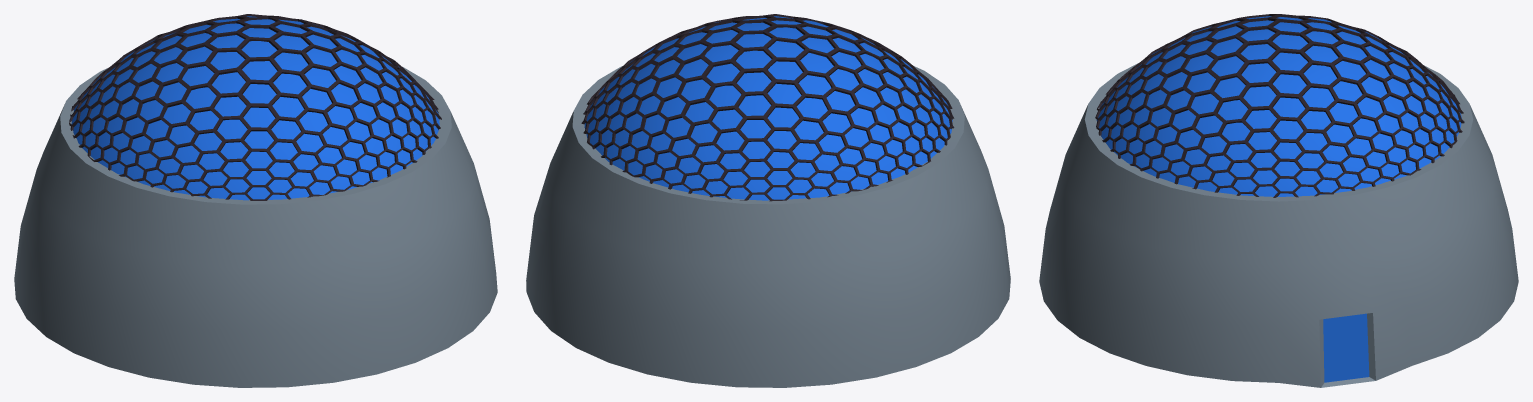
Rendered from SphericalHouse1.fbx.
3 renders of one model, left to right at view 1: azimuth 30°, elevation 25°; view 2: azimuth 150°, elevation 25°; view 3: azimuth 270°, elevation 25°, orthographic.
Visible parts, largest first — view 1: Cylinder.005, Sphere.003, honeycomb.001; view 2: Cylinder.005, Sphere.003, honeycomb.001; view 3: Cylinder.005, Sphere.003, honeycomb.001.
Part boxes in pixels (left/top/right/bottom): Cylinder.005: left=14, top=67, right=497, bottom=387; Sphere.003: left=71, top=16, right=439, bottom=200; honeycomb.001: left=69, top=14, right=441, bottom=200; Cylinder.005: left=526, top=66, right=1010, bottom=387; Sphere.003: left=584, top=16, right=952, bottom=200; honeycomb.001: left=581, top=14, right=954, bottom=201; Cylinder.005: left=1039, top=63, right=1518, bottom=387; Sphere.003: left=1096, top=16, right=1461, bottom=196; honeycomb.001: left=1095, top=14, right=1464, bottom=197.
Size of the model in its own units: 210 by 122 by 210.
